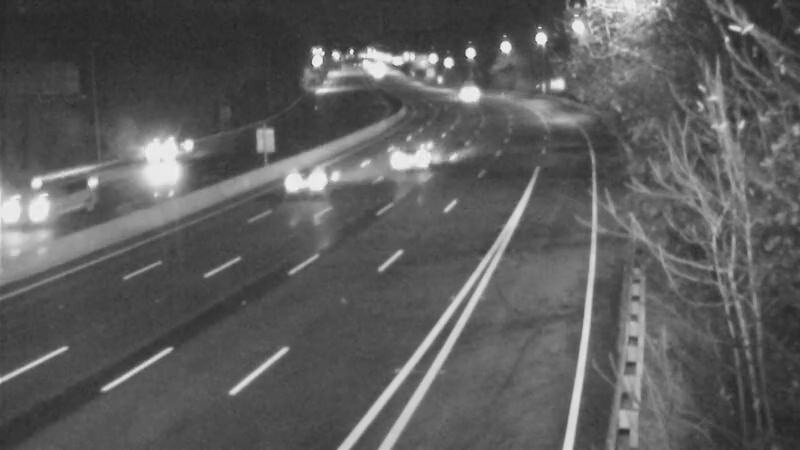vehicle: (364, 112, 444, 192), (273, 135, 353, 215), (3, 171, 83, 251), (443, 68, 493, 118), (136, 123, 186, 173)
